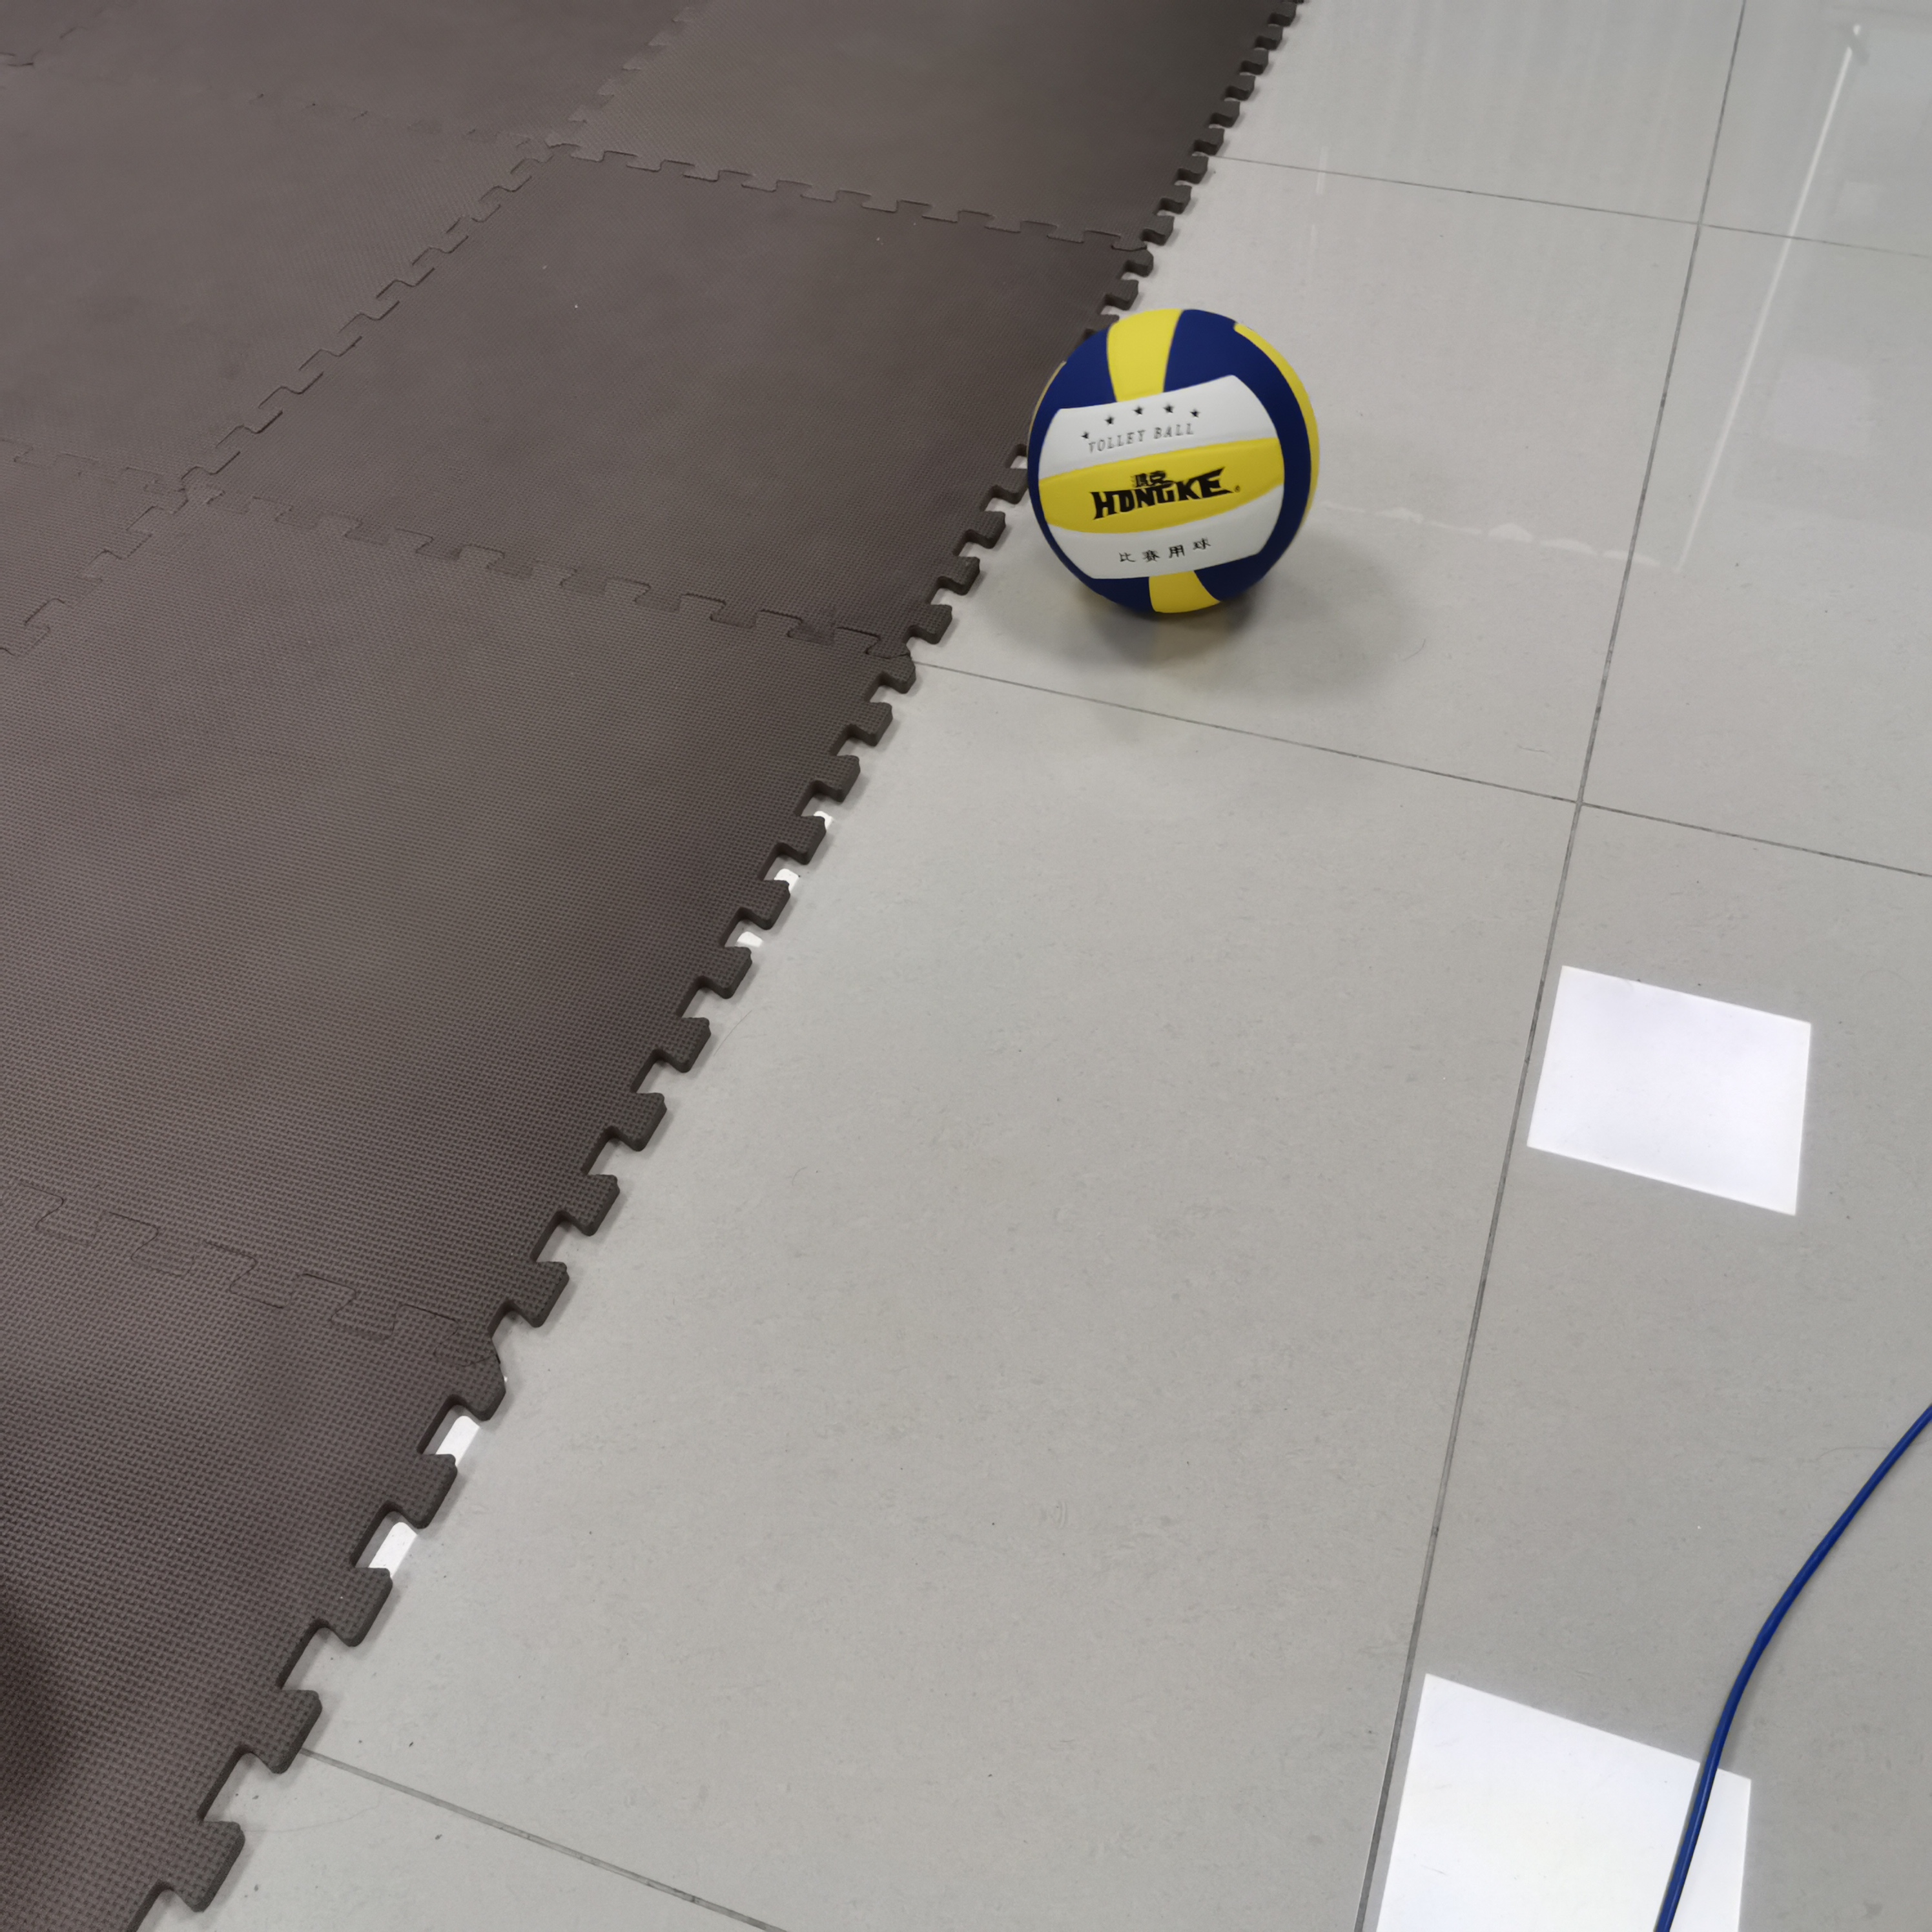volleyball: (1030, 308, 1320, 621)
